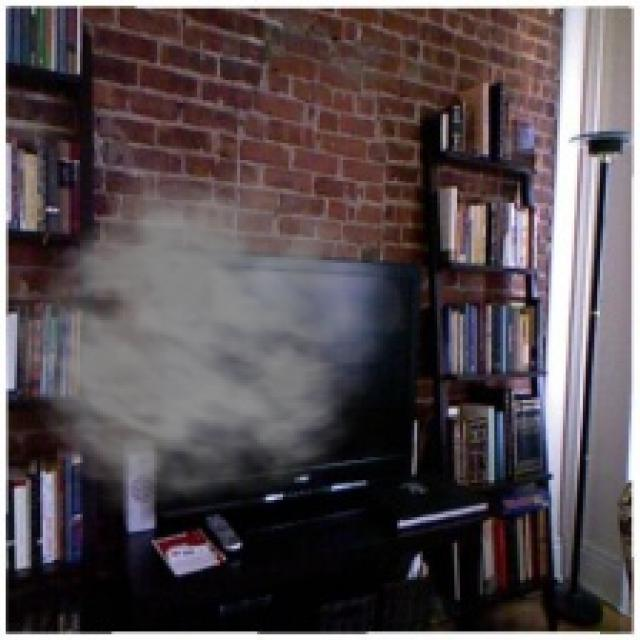smoke: (9, 149, 412, 514)
